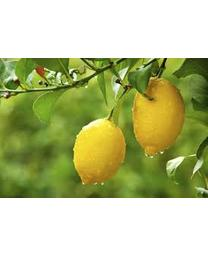lemon: (132, 77, 186, 157), (75, 119, 126, 183)
